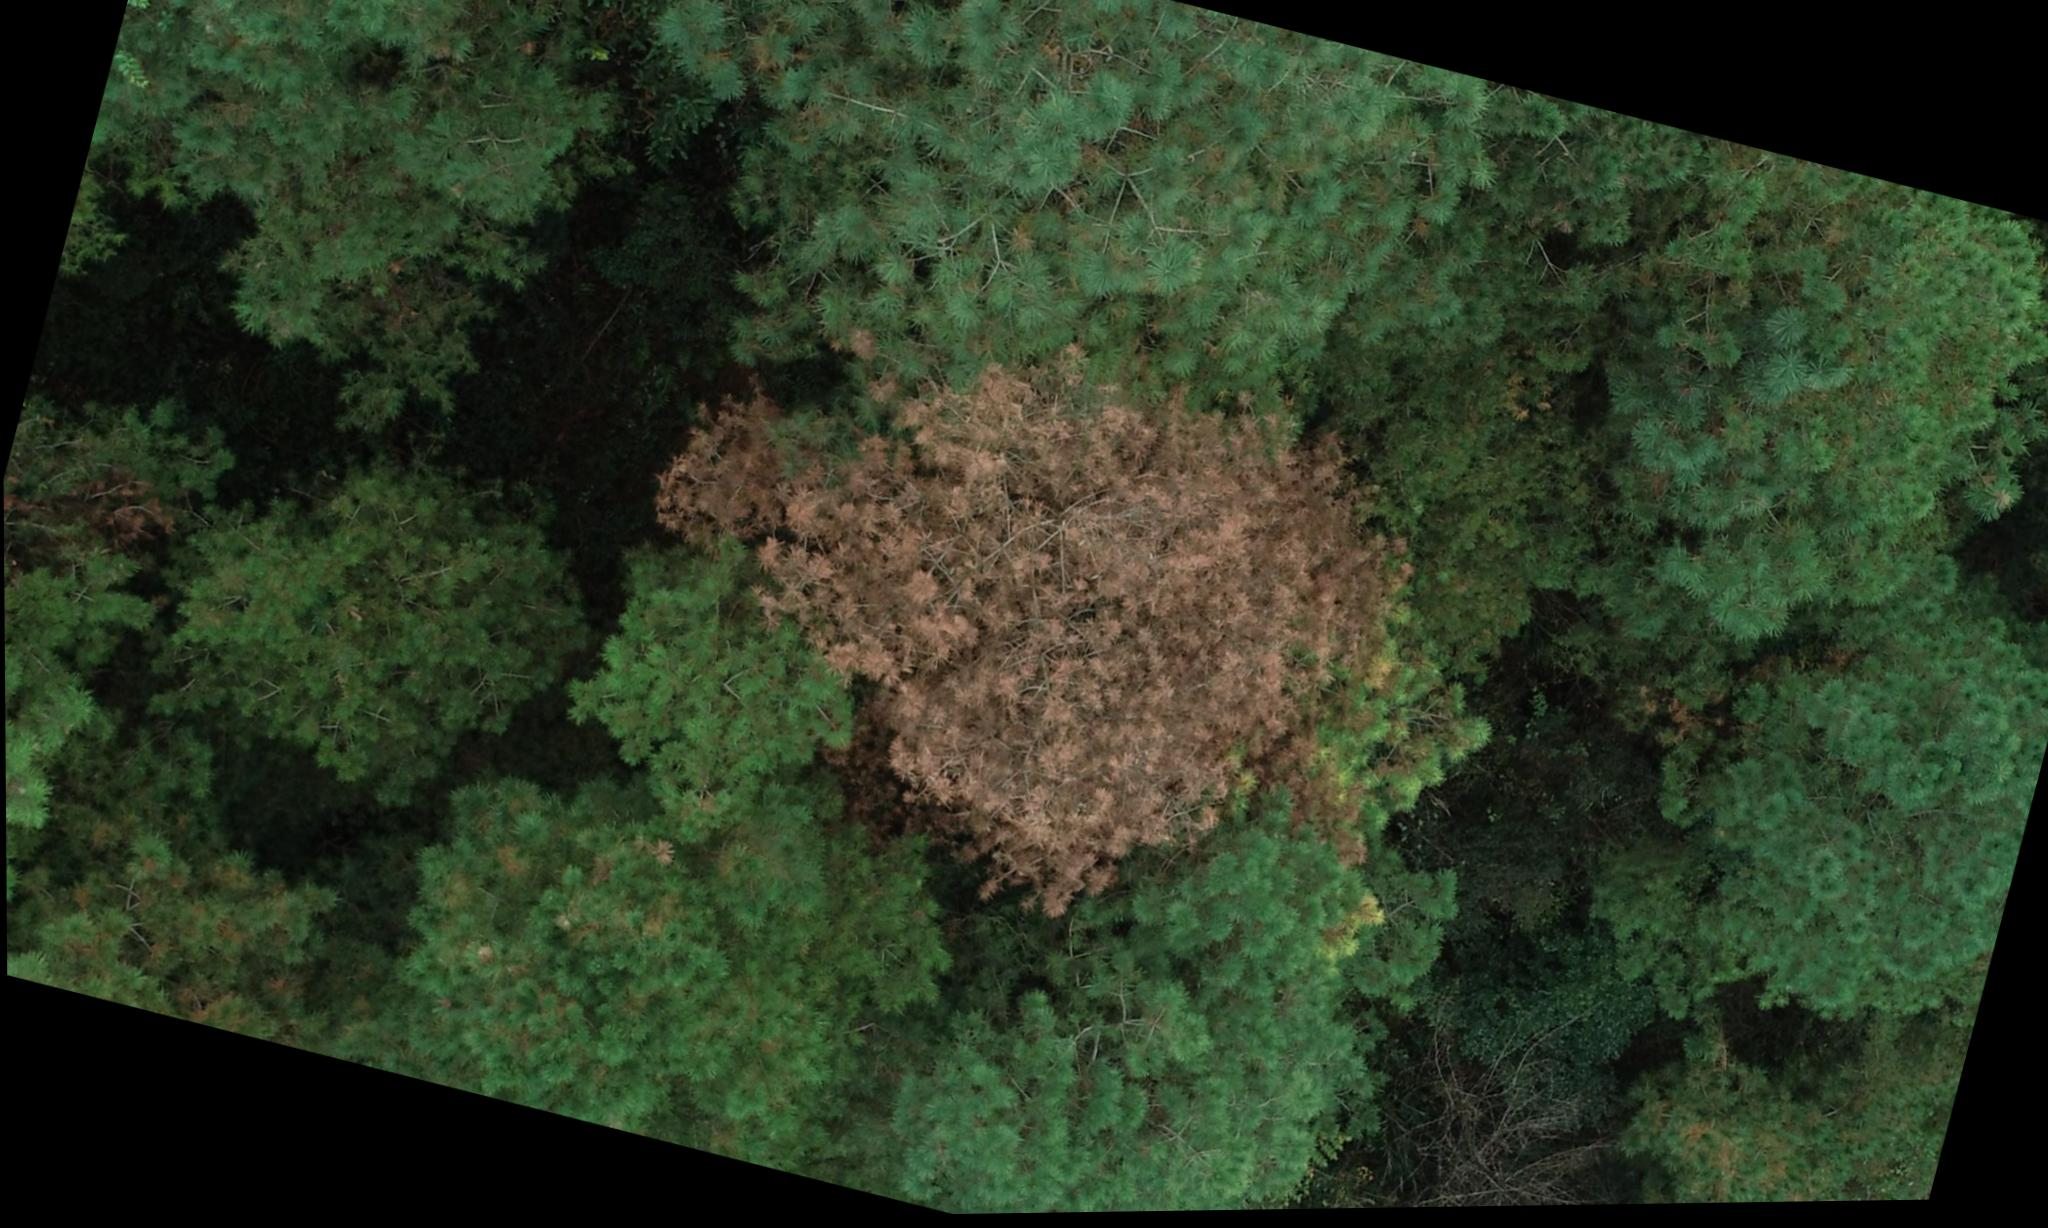heavy: (541, 228, 1550, 1010)
light: (361, 759, 969, 1208)
